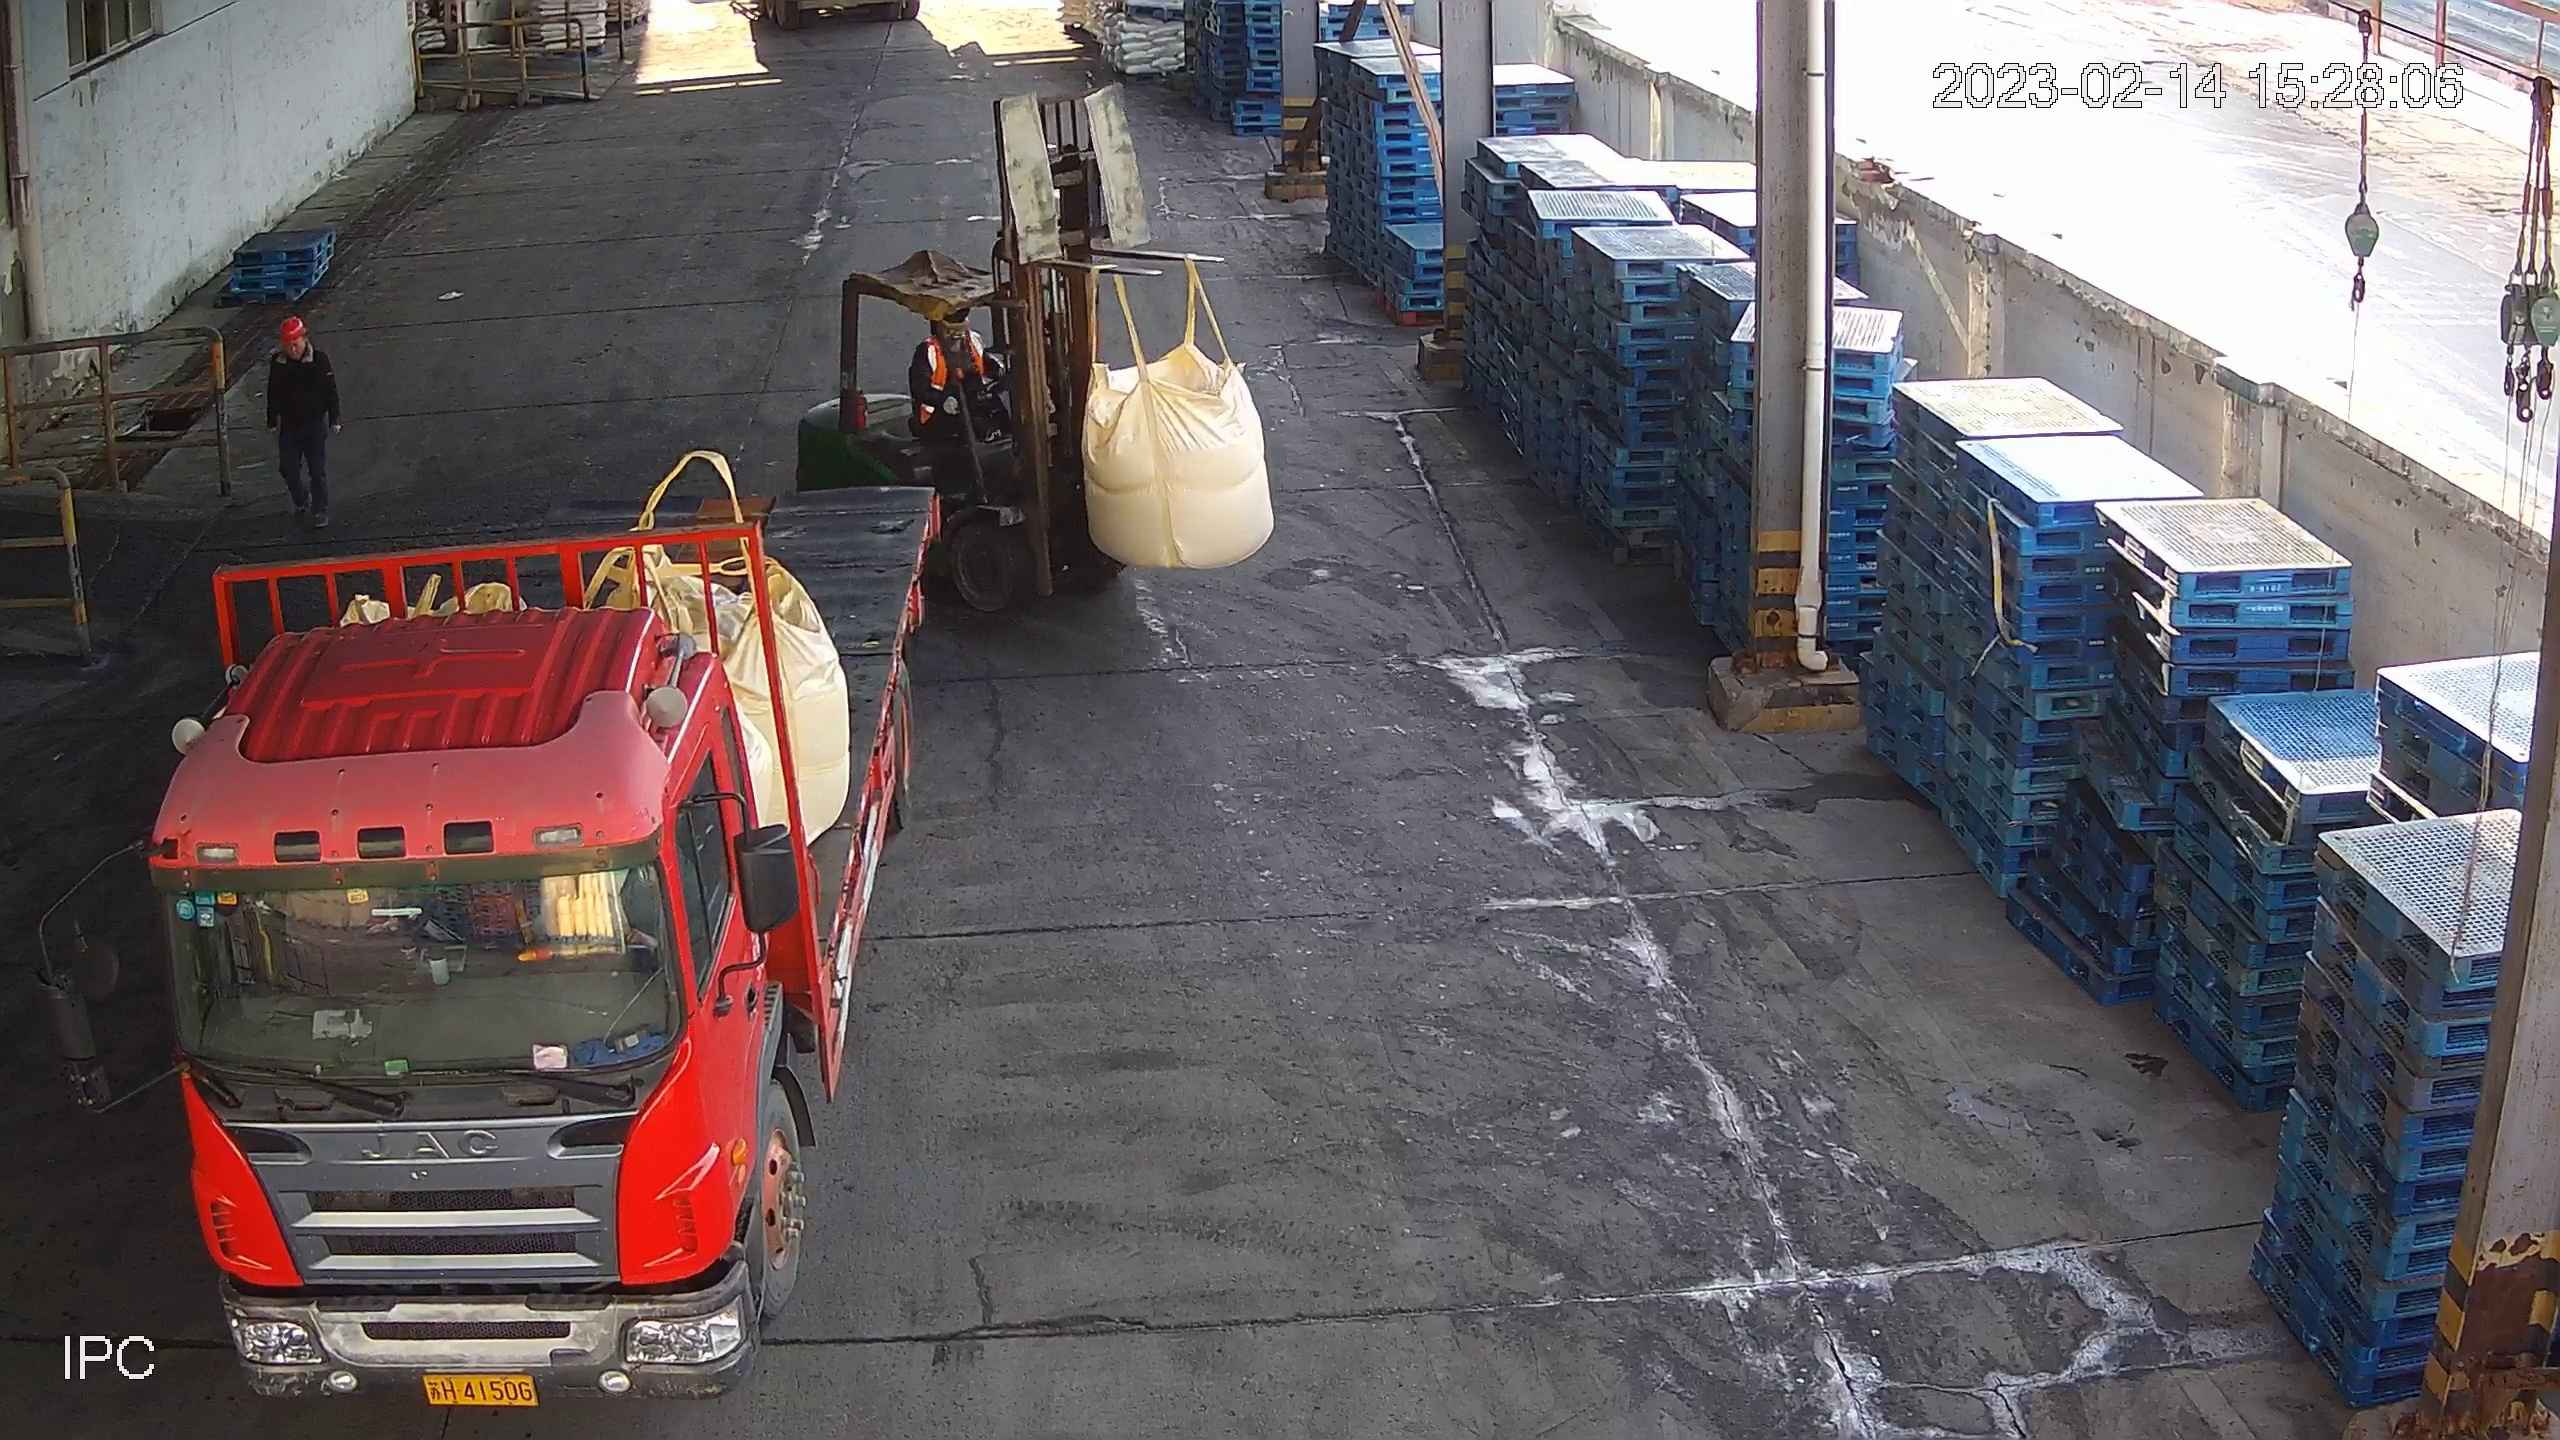head: (262, 315, 339, 396)
helmet: (279, 318, 303, 340)
people: (264, 315, 345, 539)
truck: (34, 484, 945, 1428)
